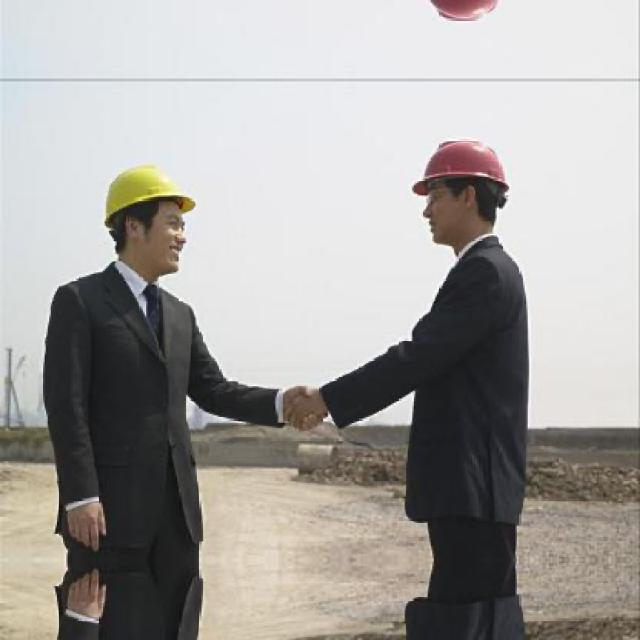con casco: (44, 143, 205, 333), (401, 135, 520, 323)
